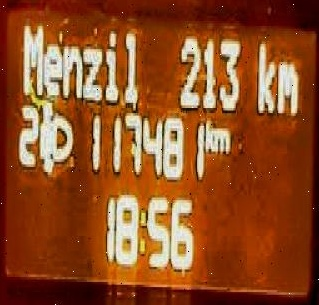1: (202, 31, 217, 110), (88, 108, 103, 172), (108, 105, 120, 174), (103, 190, 114, 264), (193, 118, 204, 179)
2: (177, 31, 201, 108), (15, 100, 38, 166)
3: (217, 33, 241, 110)
4: (142, 113, 162, 174)
5: (145, 189, 169, 269)
6: (169, 195, 194, 272)
7: (122, 105, 142, 174)
8: (114, 190, 137, 267), (162, 113, 183, 179)
X: (18, 15, 43, 95), (254, 33, 274, 115), (120, 23, 138, 105), (275, 56, 298, 113), (103, 23, 118, 102), (62, 41, 82, 100), (82, 41, 102, 100), (43, 39, 60, 98), (213, 120, 229, 151), (138, 202, 145, 259), (204, 118, 214, 151)
